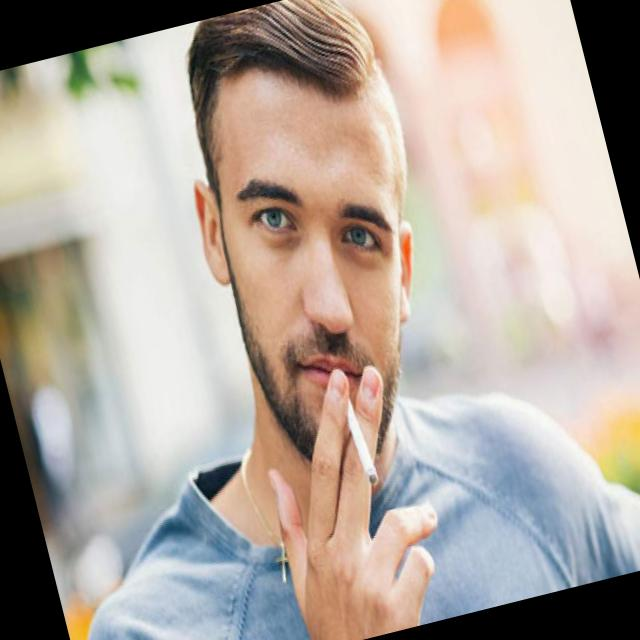cigarette: (346, 414, 381, 489)
